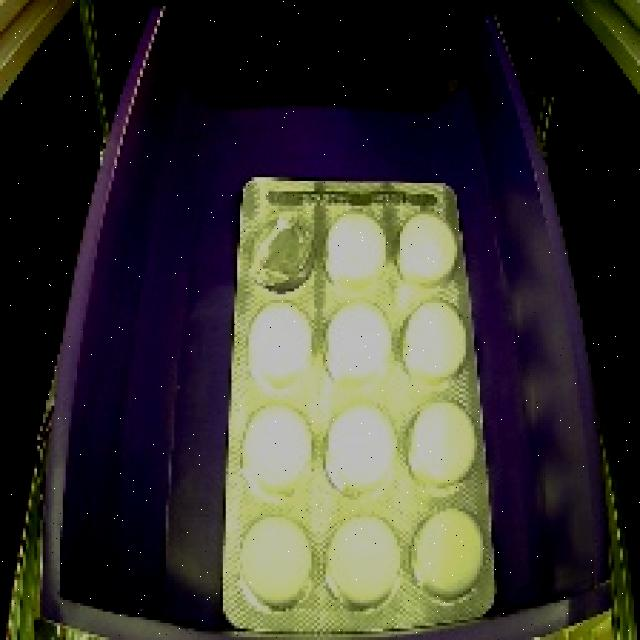med_plate: (209, 161, 512, 640)
